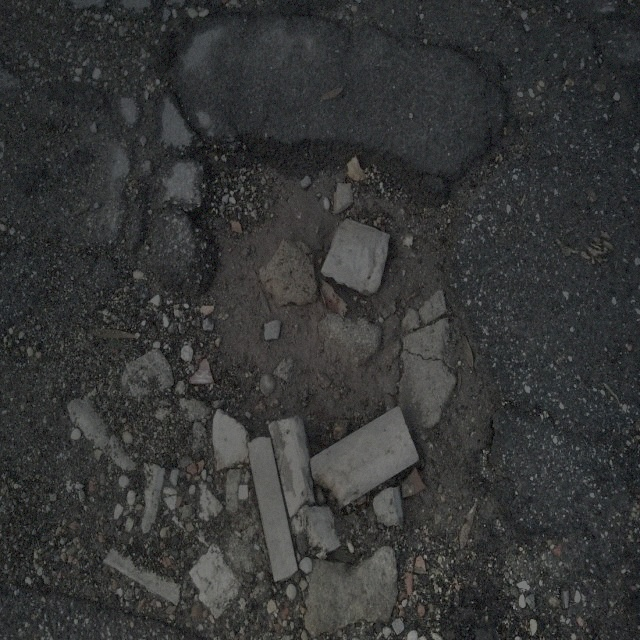pothole: (168, 116, 477, 476)
